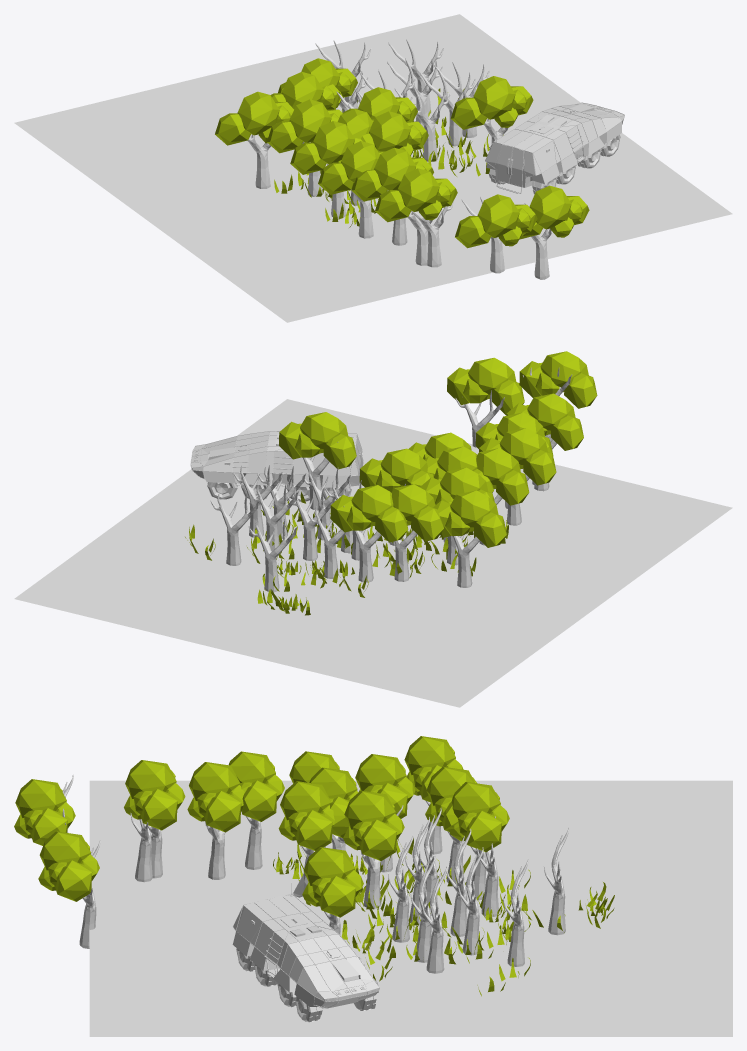
The model's file is level2.fbx.
3 views of the same model, one above another, from view 1: azimuth 30°, elevation 25°; view 2: azimuth 150°, elevation 25°; view 3: azimuth 270°, elevation 25° (orthographic). The views are drawn at different scales.
Parts seen in each view (by area): view 1: Plane, Icosphere.014, Plane.026, corpus, grass2-2.001, Cube, wheels, Cube.004; view 2: Plane, Icosphere.014, Plane.026, corpus, grass2-2.001, wheels, Cube; view 3: Plane, Icosphere.014, Plane.026, corpus, grass2-2.001, Cube, wheels.
Part boxes in pixels (x1,y1,x2,y2): Plane: (14,14,732,322); Icosphere.014: (215,58,589,248); Plane.026: (247,39,551,279); corpus: (485,103,624,187); grass2-2.001: (274,88,503,227); Cube: (485,102,624,177); wheels: (489,134,620,194); Cube.004: (498,145,523,186); Plane: (14,399,732,707); Icosphere.014: (279,351,597,547); Plane.026: (210,367,572,592); corpus: (191,431,362,488); grass2-2.001: (185,491,508,615); wheels: (207,482,351,501); Cube: (190,431,362,479); Plane: (89,780,732,1036); Icosphere.014: (14,736,509,917); Plane.026: (62,774,568,973); corpus: (232,895,378,1008); grass2-2.001: (273,838,614,996); Cube: (233,894,379,1008); wheels: (236,948,377,1022).
Bounding box in the file's own units: 2417 × 573 × 2866.
